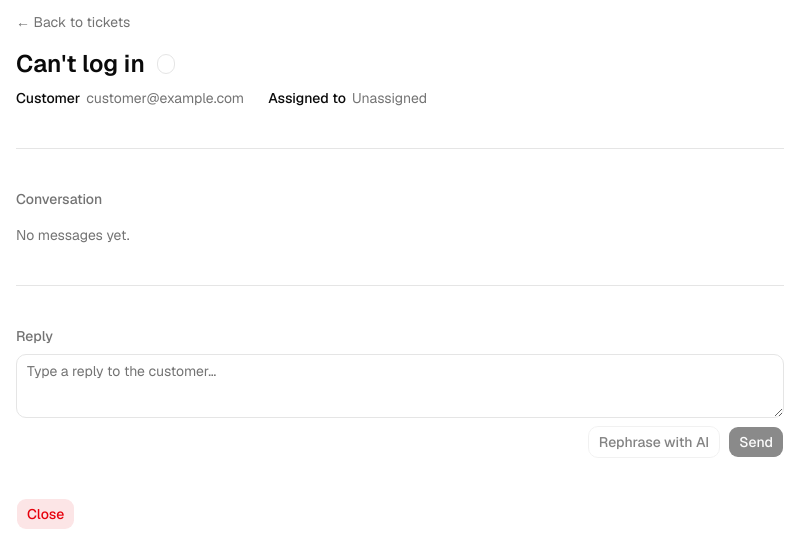
Test: TicketDetailView › reply box › disables Send until text is typed
Expected: the button "Send" is disabled, [728, 426, 784, 458]
Type "Thanks for reaching out." into the text box named "Reply to customer" at (400, 386), box [16, 354, 784, 418]
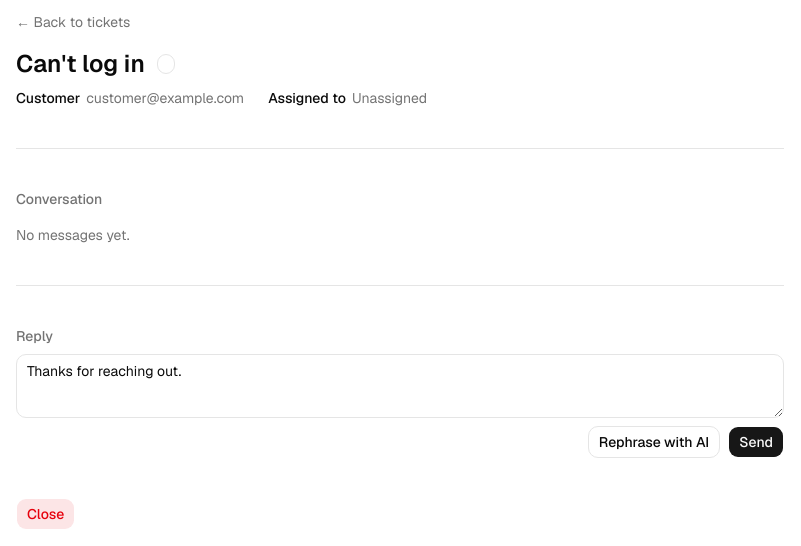
Now the button "Send" is enabled, box [728, 426, 784, 458]
